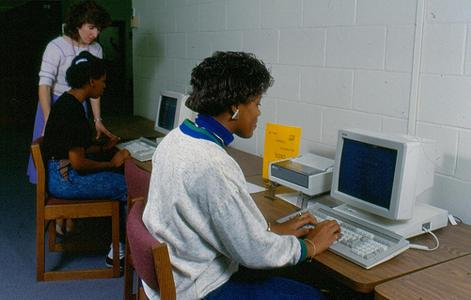person: (142, 50, 343, 300)
